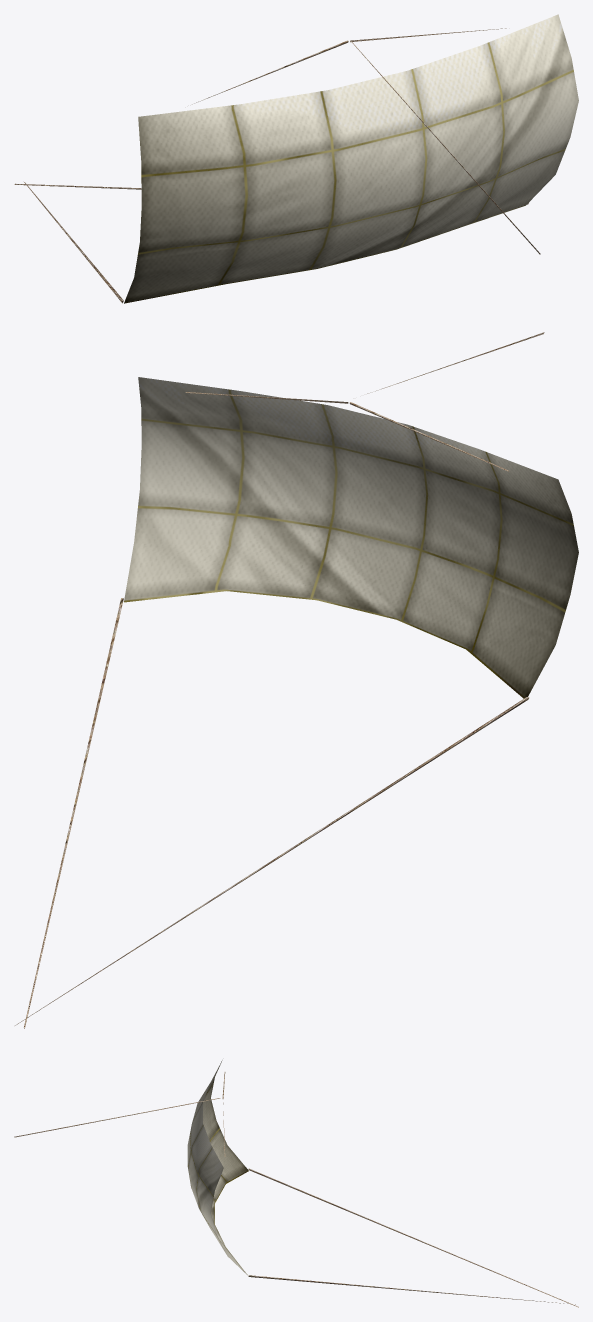
File: hele_trireme_foresail.dae
3 renders of one model, top to bottom at view 1: azimuth 30°, elevation 25°; view 2: azimuth 150°, elevation 25°; view 3: azimuth 270°, elevation 25°, orthographic. The views are drawn at different scales.
Parts seen in each view (by area): view 1: Plane_001; view 2: Plane_001; view 3: Plane_001.
Part boxes in pixels (x1,y1,x2,y2): Plane_001: [14, 14, 578, 303]; Plane_001: [15, 332, 578, 1028]; Plane_001: [14, 1060, 578, 1307].
Bounding box in the file's own units: 8.72 × 7.35 × 18.08.
